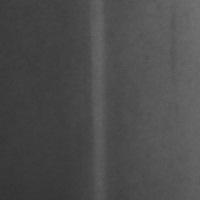scratches: (88, 8, 107, 191)
